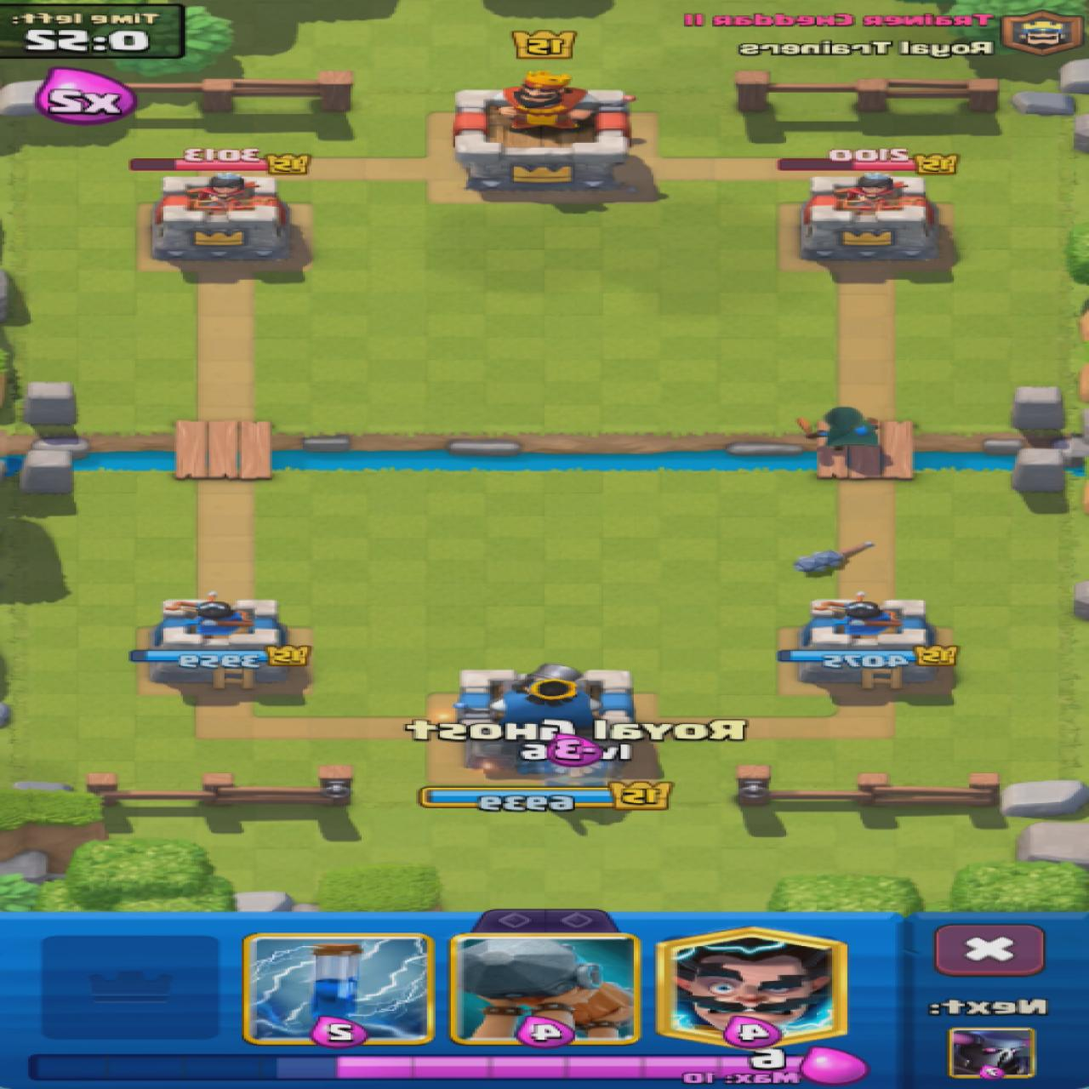Enemy-KingTower: (455, 73, 632, 194)
Enemy-PrincessTower: (802, 172, 939, 260), (155, 172, 290, 261)
